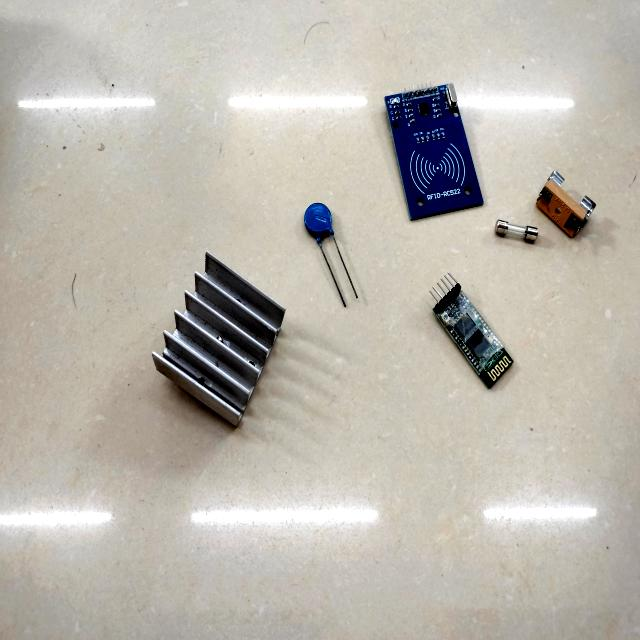capacitor: (304, 203, 351, 289)
